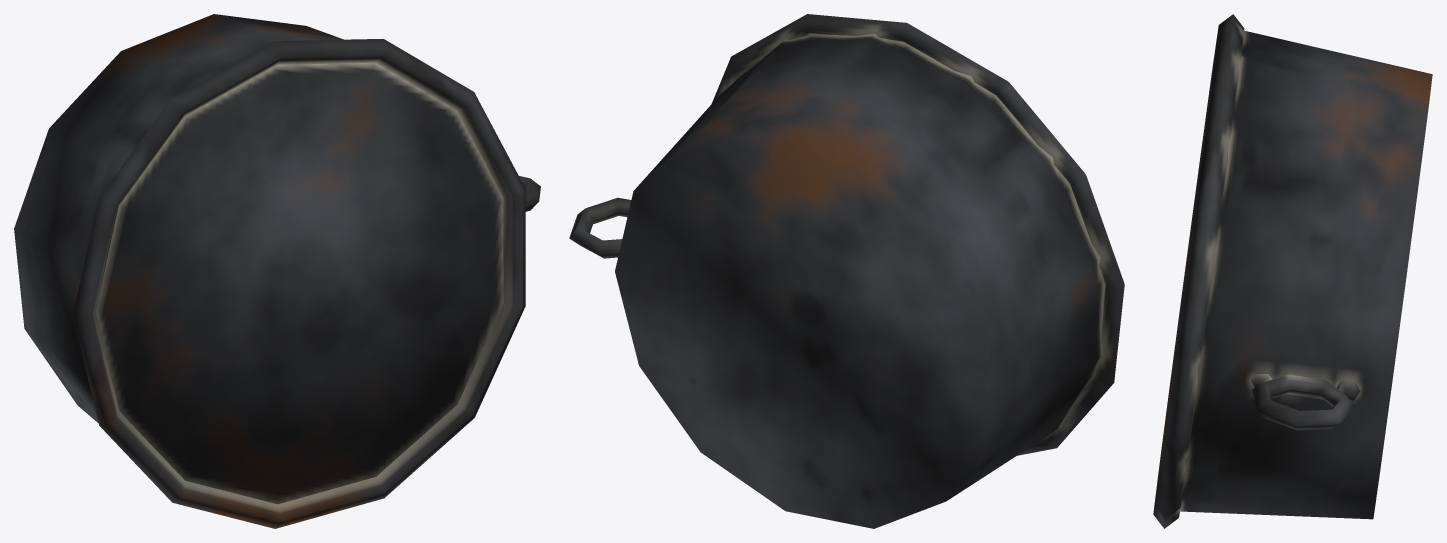
Rendered from Prop_PotHelm.fbx.
The picture shows the model from 3 angles, left to right: view 1: azimuth 30°, elevation 25°; view 2: azimuth 150°, elevation 25°; view 3: azimuth 270°, elevation 25°; orthographic projection.
Parts seen in each view (by area): view 1: Prop_PotHelm; view 2: Prop_PotHelm; view 3: Prop_PotHelm.
Part boxes in pixels (<box>): Prop_PotHelm: <box>14,14,540,528</box>; Prop_PotHelm: <box>569,14,1124,528</box>; Prop_PotHelm: <box>1153,14,1432,528</box>.
Size of the model in its own units: 0.2761 by 0.238 by 0.1292.
